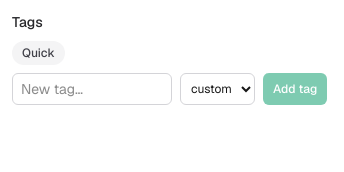
Test: TagPicker — inline tag creation › blocks duplicate names (case-insensitive) with a pointer to the chip
The image size is (344, 172).
In the field with test id "tag-picker-new-name": (92, 89) [12, 73, 172, 105], type "quick"
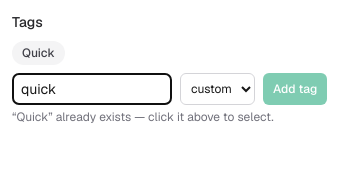
expect the button with test id "tag-picker-add" is disabled: met, box [263, 73, 327, 105]
expect the text "“Quick” already exists — click it above to select." is shown: met, box [12, 109, 274, 125]
